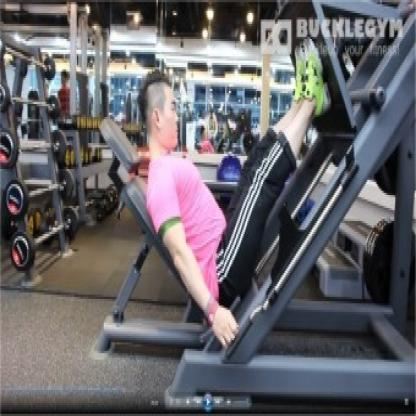leg press: (85, 0, 416, 416)
